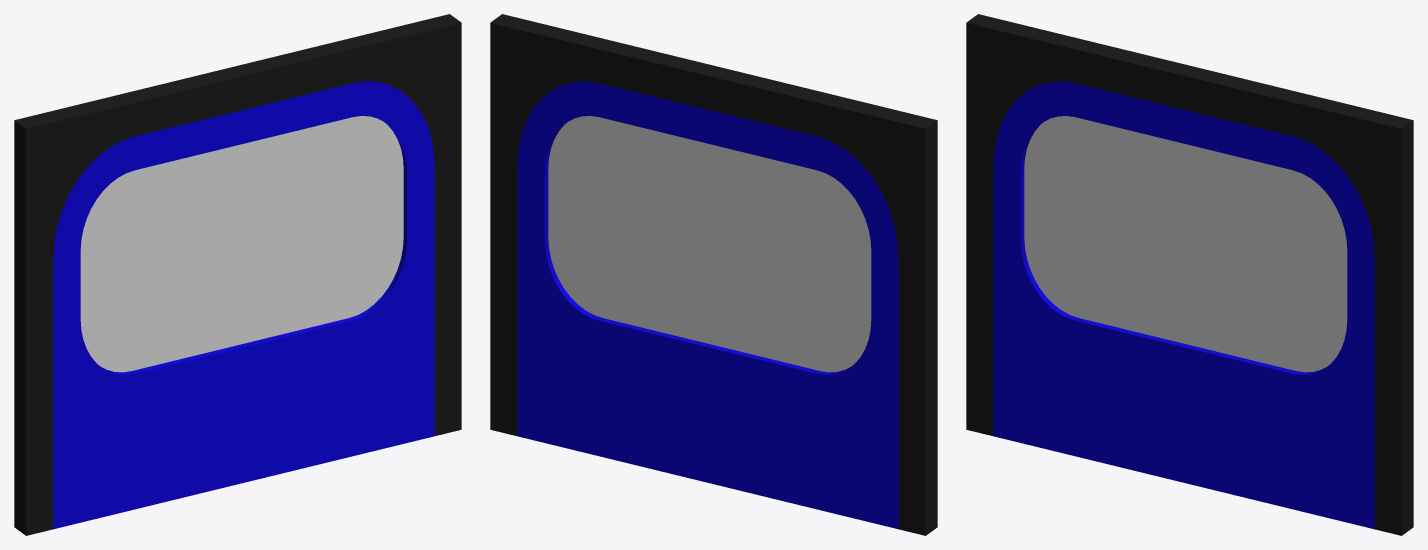
File: Puerta_LP.fbx
The picture shows the model from 3 angles, left to right: view 1: azimuth 30°, elevation 25°; view 2: azimuth 150°, elevation 25°; view 3: azimuth 330°, elevation 25°; orthographic projection.
Parts seen in each view (by area): view 1: PuertaPart2_LP, PuertaVidrio_LP, PuertaPart1_LP; view 2: PuertaPart2_LP, PuertaVidrio_LP, PuertaPart1_LP; view 3: PuertaPart2_LP, PuertaVidrio_LP, PuertaPart1_LP.
Boxes of the visible parts, <box> form: PuertaPart2_LP: <box>53,81,434,529</box>; PuertaVidrio_LP: <box>80,116,403,372</box>; PuertaPart1_LP: <box>14,14,461,535</box>; PuertaPart2_LP: <box>517,81,898,529</box>; PuertaVidrio_LP: <box>548,116,871,372</box>; PuertaPart1_LP: <box>490,14,937,535</box>; PuertaPart2_LP: <box>993,81,1374,529</box>; PuertaVidrio_LP: <box>1024,116,1347,372</box>; PuertaPart1_LP: <box>966,14,1413,535</box>.
Bounding box in the file's own units: 700 × 625 × 33.33.
